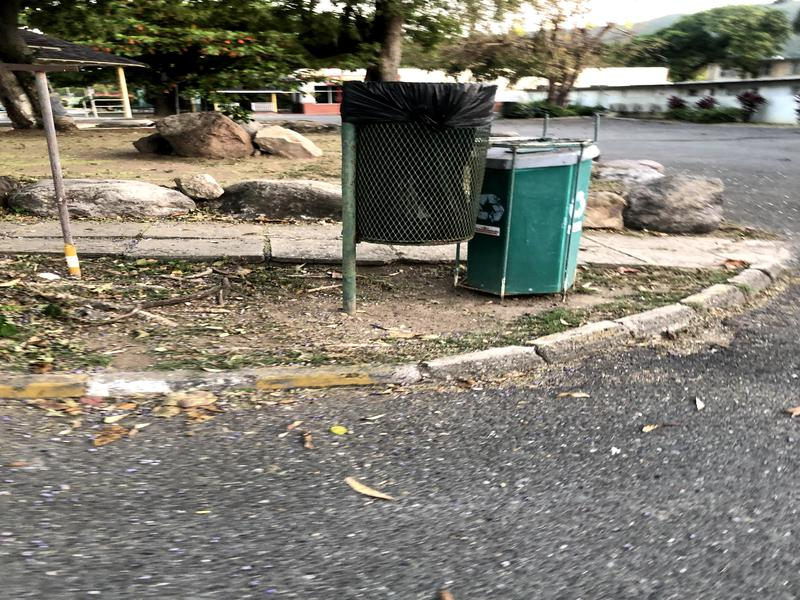18.0053245_-76.7486424_recyclebin: (455, 121, 604, 325)
